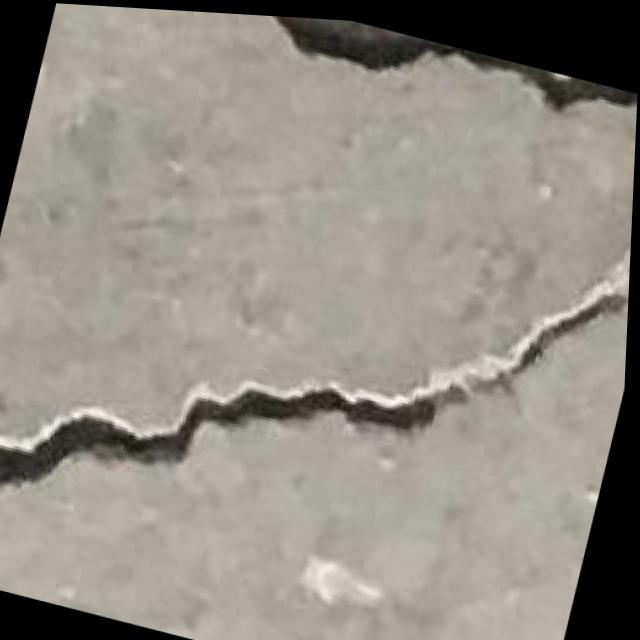Crack: (0, 143, 635, 640), (52, 3, 640, 160)
